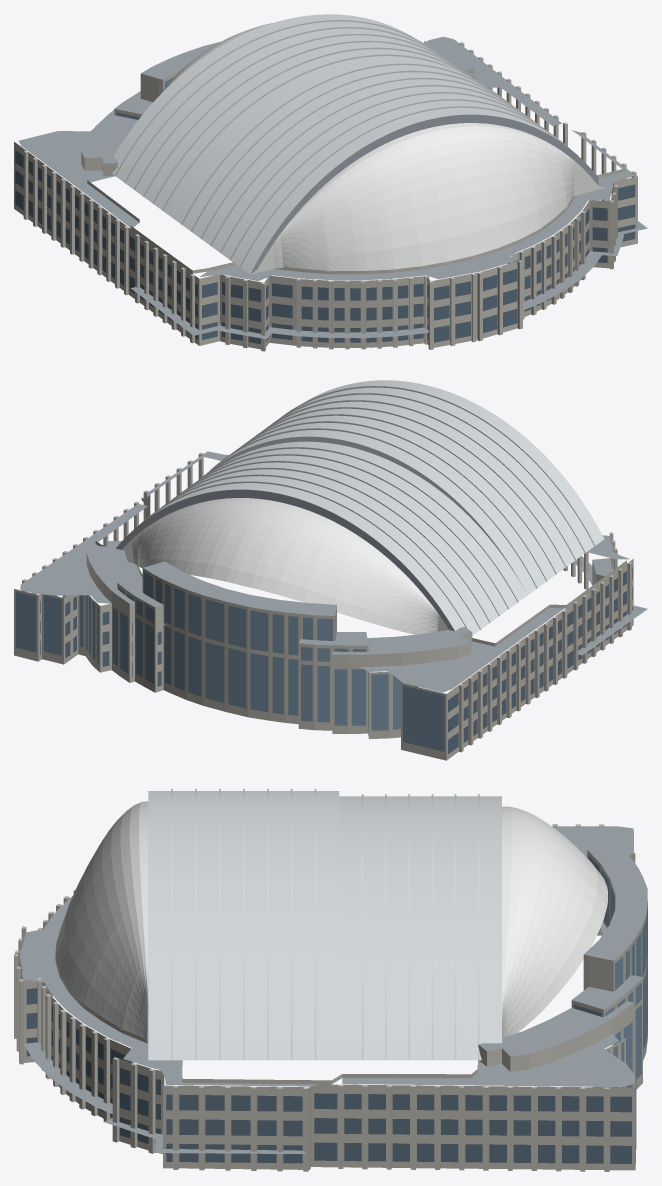
File: tor-rogers-centre.detail.glb
3 renders of one model, top to bottom at view 1: azimuth 30°, elevation 25°; view 2: azimuth 150°, elevation 25°; view 3: azimuth 270°, elevation 25°, orthographic. The views are drawn at different scales.
Parts seen in each view (by area): view 1: Rogers Centre; view 2: Rogers Centre; view 3: Rogers Centre.
Boxes of the visible parts, box(x1,y1,x2,y2) form: Rogers Centre: box(14, 14, 647, 351); Rogers Centre: box(14, 380, 647, 760); Rogers Centre: box(14, 789, 647, 1171).
Size of the model in its own units: 225 by 86.7 by 222.
